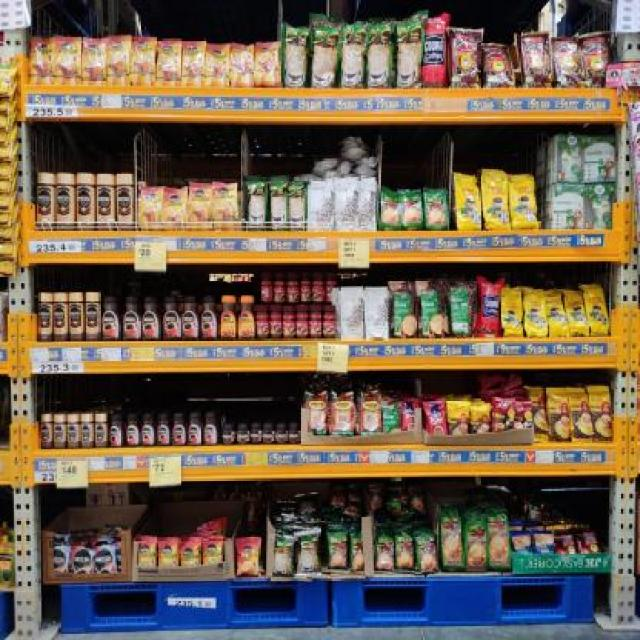Coffee: (30, 37, 56, 86), (55, 36, 80, 86), (106, 36, 130, 86), (156, 40, 181, 86), (131, 38, 155, 85), (82, 38, 106, 85), (255, 42, 280, 87), (138, 186, 164, 229), (230, 42, 254, 87), (213, 185, 238, 228), (188, 184, 212, 228), (205, 45, 229, 86), (182, 42, 204, 86), (38, 173, 54, 230), (56, 173, 72, 230), (96, 174, 112, 229), (236, 537, 259, 575), (164, 190, 187, 228), (77, 173, 92, 230), (163, 295, 182, 339), (117, 174, 132, 229), (182, 295, 200, 339), (102, 296, 120, 339), (238, 296, 255, 339), (143, 297, 160, 340), (220, 296, 237, 338), (124, 297, 141, 338), (38, 292, 52, 340), (54, 292, 68, 340), (70, 292, 84, 340), (202, 297, 218, 338), (94, 546, 117, 574), (86, 292, 99, 340), (71, 548, 94, 574), (138, 539, 156, 572), (158, 541, 177, 568), (171, 414, 187, 444), (110, 414, 124, 448), (52, 546, 70, 572), (178, 544, 200, 565), (142, 414, 156, 446), (126, 415, 140, 447), (202, 542, 222, 564), (204, 413, 218, 444), (188, 414, 202, 444), (156, 414, 170, 444), (53, 415, 65, 448), (81, 415, 93, 447), (67, 415, 79, 447), (95, 414, 106, 448), (40, 415, 51, 448), (288, 424, 300, 444), (262, 425, 275, 443), (237, 425, 249, 444), (250, 425, 261, 443), (222, 425, 233, 443), (277, 426, 288, 443)
